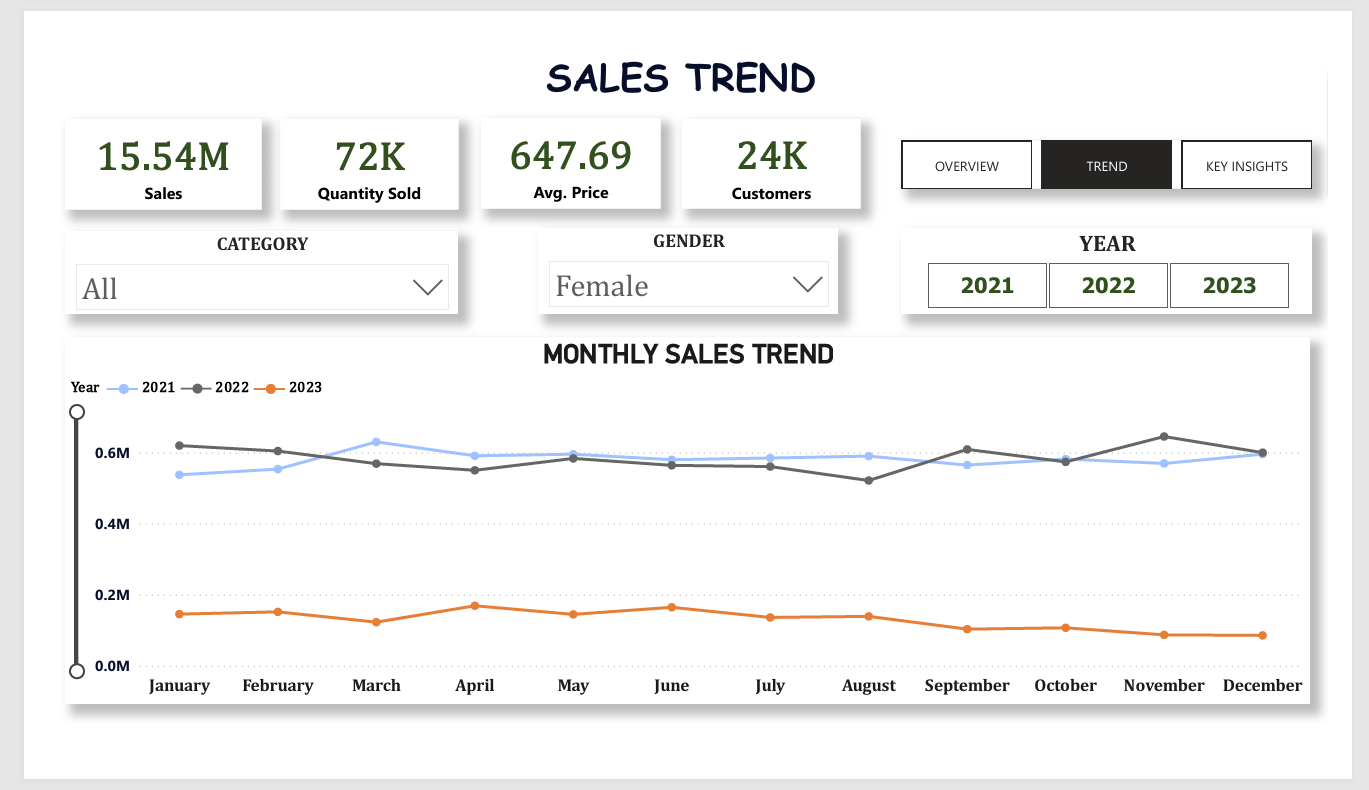

The page's visual inventory and layout, read from the dashboard file:
{"tool":"powerbi","page":{"name":"TREND","canvas":[1280,720],"ordinal":1},"visuals":[{"type":"card","fields":{"Values":["Sum(Shopping_data.price)"]},"box":[17.5,84.1,196.8,90.5],"z":0},{"type":"textbox","box":[17.5,9.5,1247.6,66.7],"z":1000},{"type":"card","fields":{"Values":["Sum(Shopping_data.quantity)"]},"box":[231.7,84.1,179.4,90.5],"z":2000},{"type":"pageNavigator","box":[853.9,105.7,410,47.9],"z":3000},{"type":"card","fields":{"Values":["Shopping_data.AVG PRICE"]},"box":[433.2,83.4,180,90.7],"z":4000},{"type":"card","fields":{"Values":["Shopping_data.Customers"]},"box":[634.1,83.7,179,90.4],"z":5000},{"type":"slicer","title":"YEAR","fields":{"Values":["Date.Year"]},"box":[853.9,194,411.2,86.2],"z":6000},{"type":"lineChart","title":"MONTHLY SALES TREND","fields":{"Category":["Date.Month"],"Y":["Sum(Shopping_data.price)"],"Series":["Date.Year"]},"box":[18.2,303.4,1245.2,366.4],"z":7000},{"type":"slicer","title":"CATEGORY","fields":{"Values":["Shopping_data.category"]},"box":[18.2,197.3,393,82.9],"z":8000},{"type":"slicer","title":"GENDER","fields":{"Values":["Shopping_data.gender"]},"box":[490.8,194,300.1,86.2],"z":9000}]}

Visuals, with their boxes in screenshot pixels (x1, y1, x2, y2), scaled from the page's 1280x720 canvas onto the 1369x790 screenshot:
card - Sum(Shopping_data.price): [19,92,229,192]
textbox: [19,10,1353,84]
card - Sum(Shopping_data.quantity): [248,92,440,192]
pageNavigator: [913,116,1352,169]
card - Shopping_data.AVG PRICE: [463,92,656,191]
card - Shopping_data.Customers: [678,92,870,191]
"YEAR" slicer: [913,213,1353,307]
"MONTHLY SALES TREND" lineChart: [19,333,1351,735]
"CATEGORY" slicer: [19,216,440,307]
"GENDER" slicer: [525,213,846,307]
